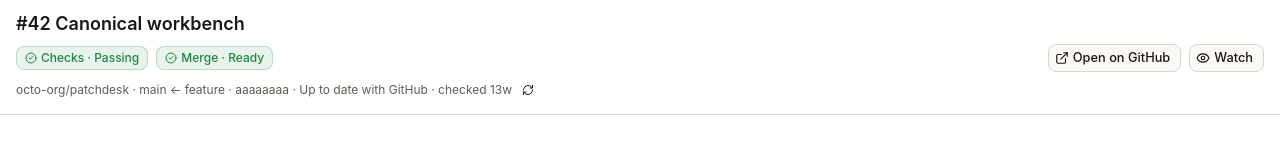
Watch toggle surfaces › offers Watch in the Review header for an open pull request
Click the button "Watch": (1227, 58) top-left (1189, 44), bottom-right (1264, 72)
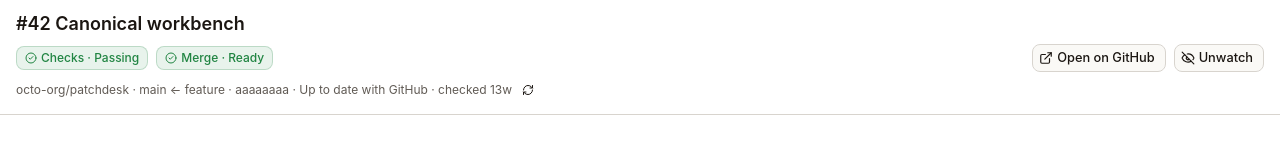
Expected: the button "Unwatch" is shown, top-left (1174, 44), bottom-right (1264, 72)
